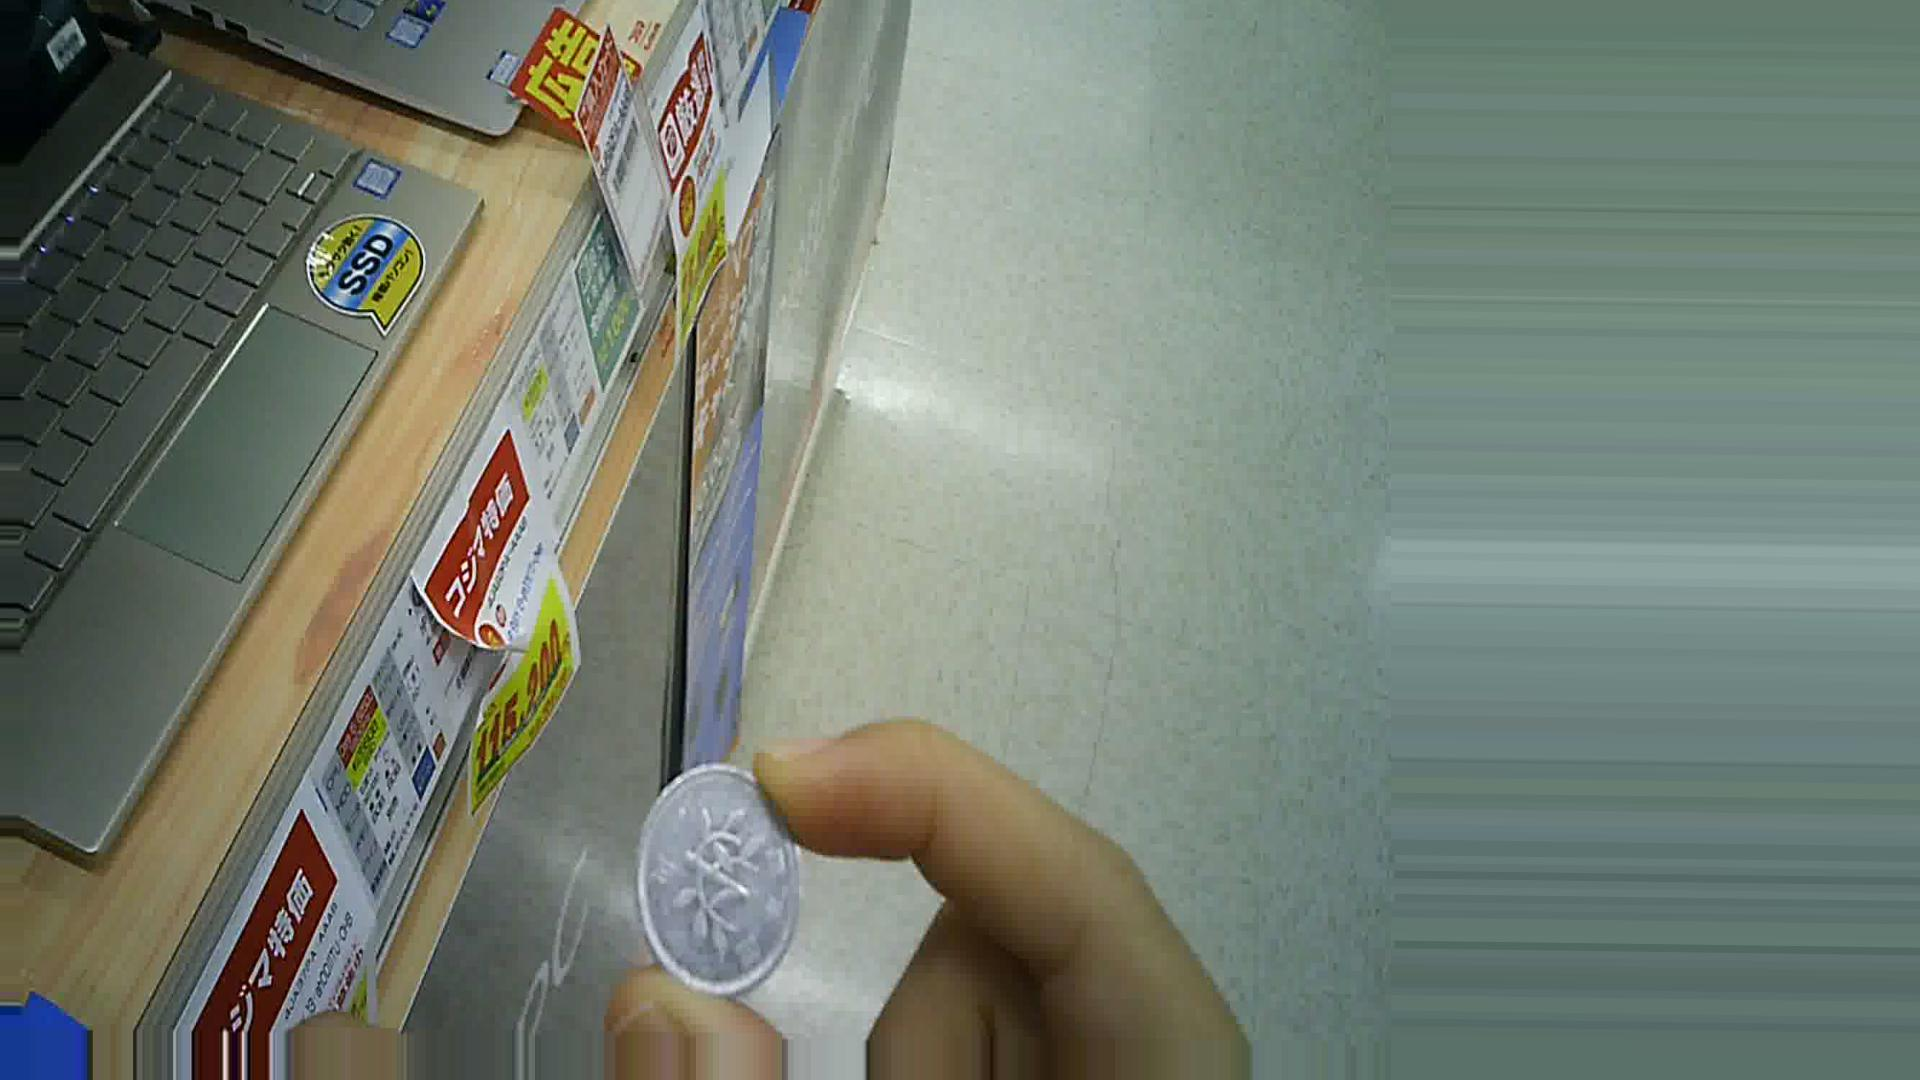1 Yen: (628, 767, 802, 1015)
